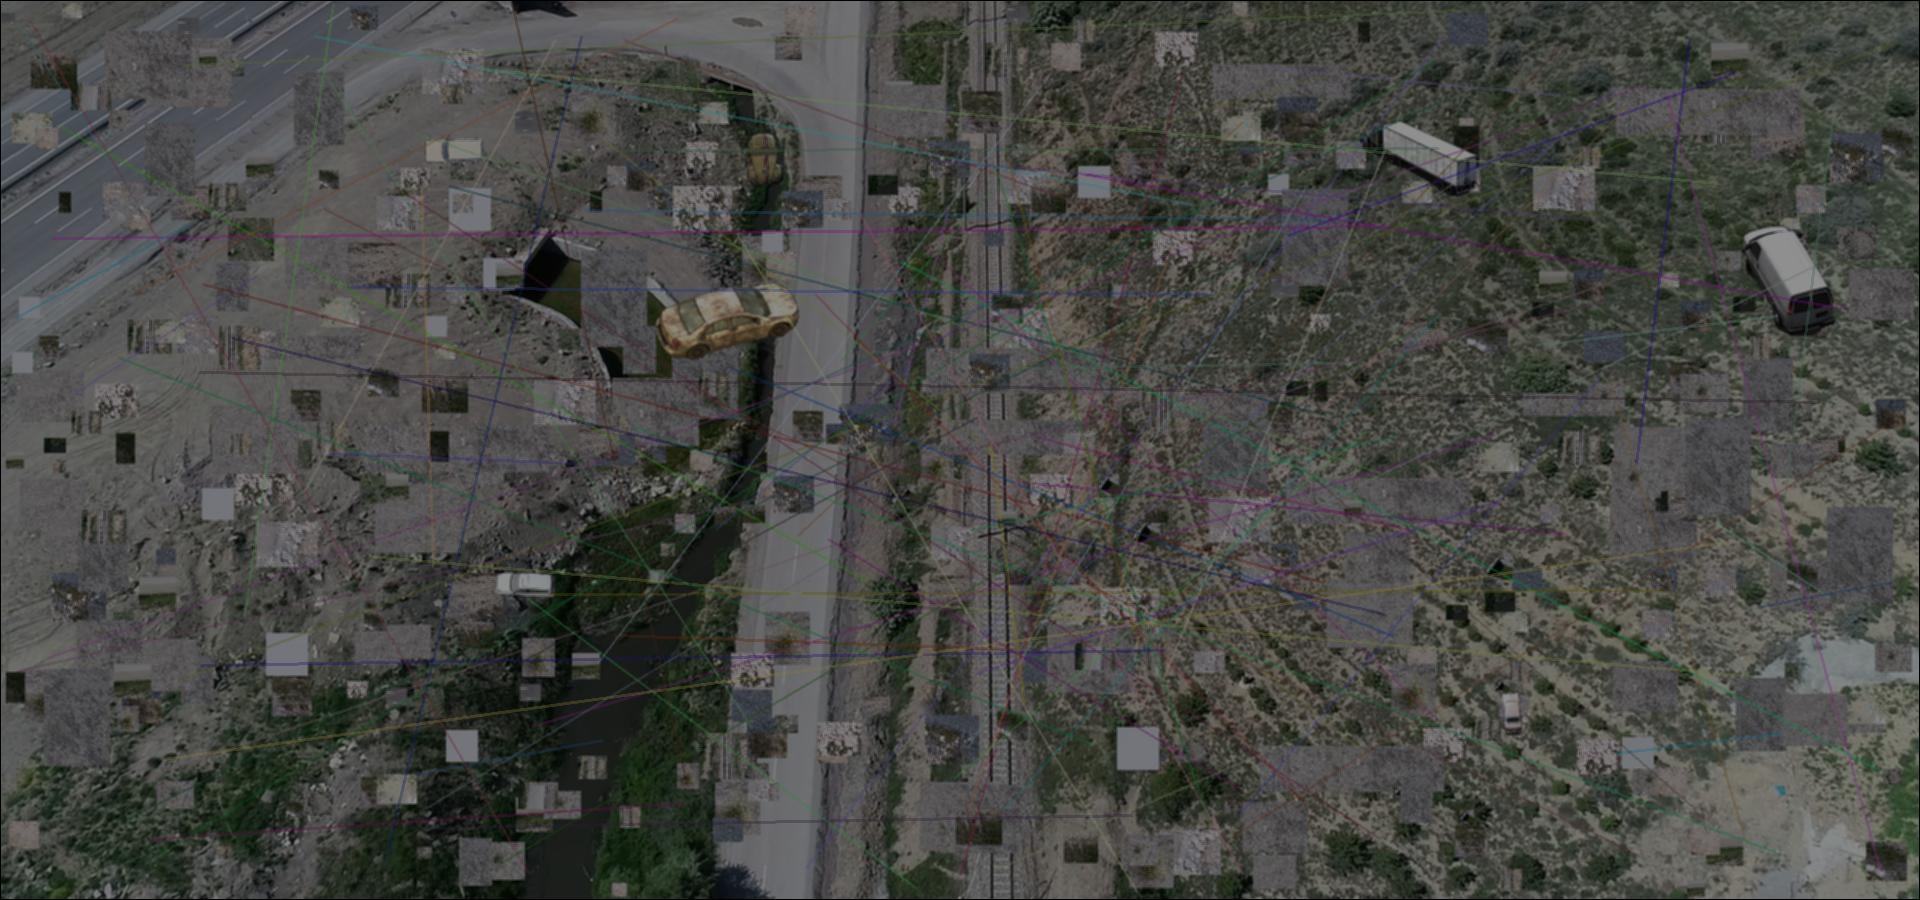arac: (651, 280, 800, 362), (1738, 220, 1836, 336), (1354, 111, 1478, 197), (493, 569, 556, 602), (747, 133, 784, 184), (422, 135, 485, 164), (1499, 691, 1523, 737)
